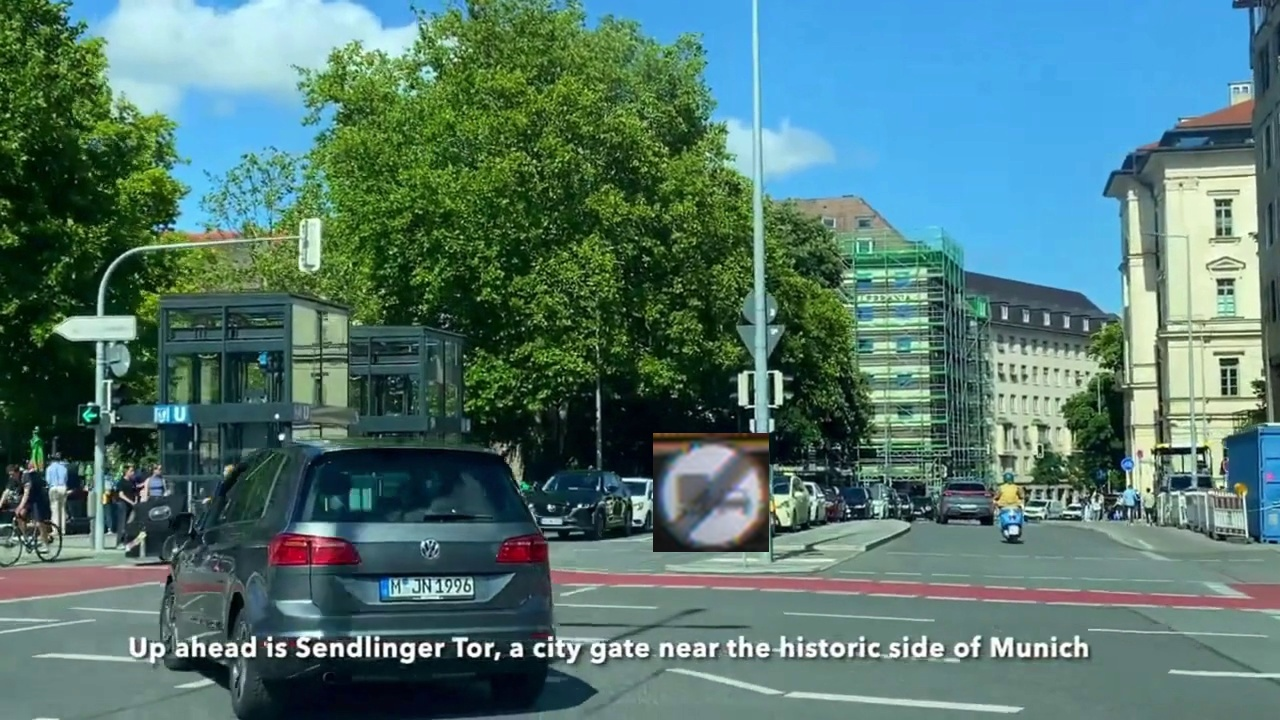End no pass >3.5t: (653, 433, 769, 552)
